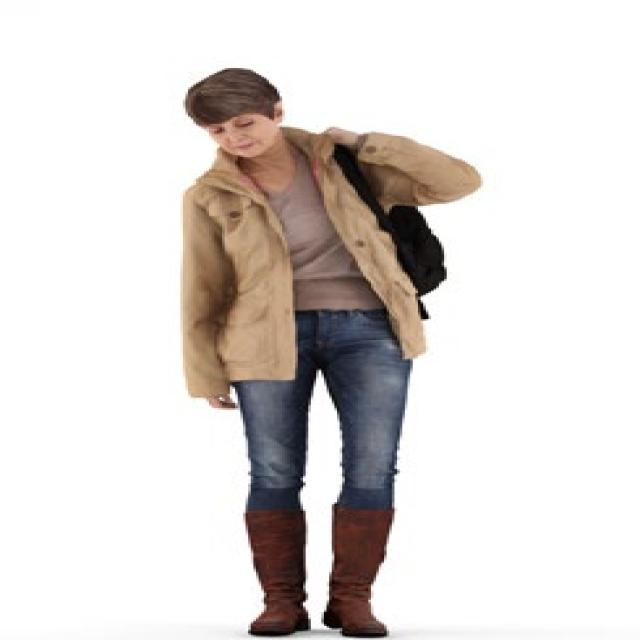standing: (175, 64, 480, 640)
